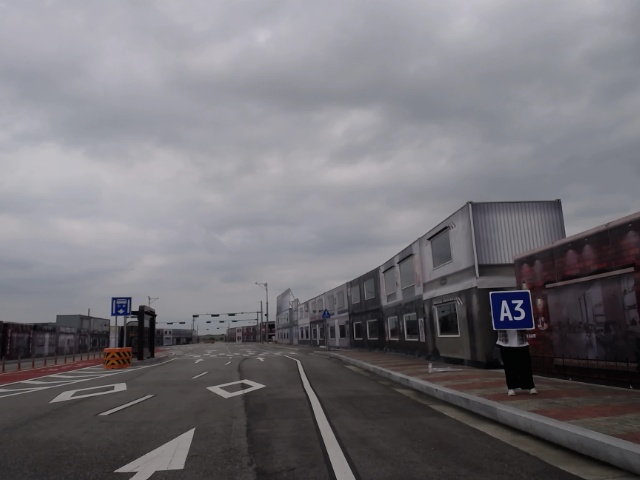delivery_a3: (490, 290, 534, 330)
